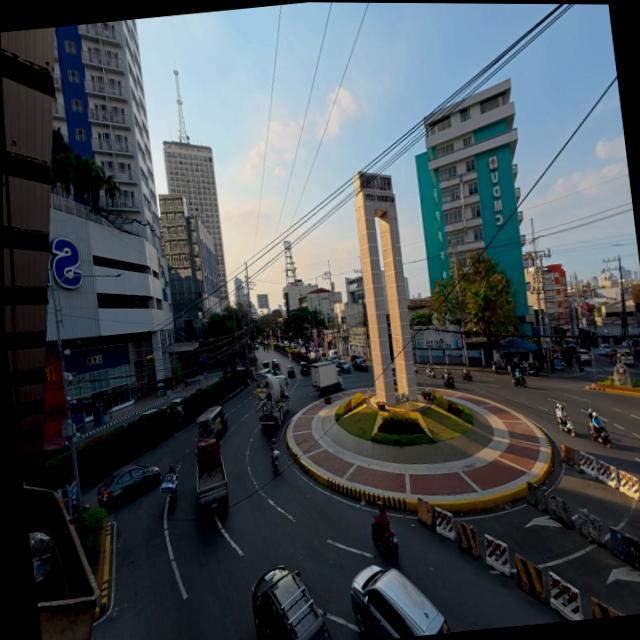Jeepneys: (195, 406, 226, 439), (260, 361, 269, 372)
car: (351, 566, 449, 639), (252, 566, 330, 639), (97, 465, 160, 509), (43, 443, 69, 460), (166, 397, 183, 417), (136, 408, 157, 419), (335, 360, 350, 373), (577, 350, 591, 362), (352, 360, 367, 371), (327, 354, 341, 364), (299, 362, 309, 375), (286, 365, 295, 378), (350, 354, 362, 363), (328, 350, 339, 359), (390, 364, 396, 379), (283, 339, 290, 348), (255, 345, 258, 351)
motorcycle: (371, 522, 397, 560), (588, 424, 612, 447), (557, 416, 574, 436), (271, 450, 279, 472), (512, 375, 526, 387), (443, 373, 454, 388), (492, 361, 504, 374), (524, 365, 536, 376), (425, 366, 435, 378), (462, 370, 472, 381), (577, 362, 583, 372)
trucks: (196, 438, 227, 512), (255, 371, 288, 425), (309, 361, 342, 392)
vans: (618, 351, 632, 366)
